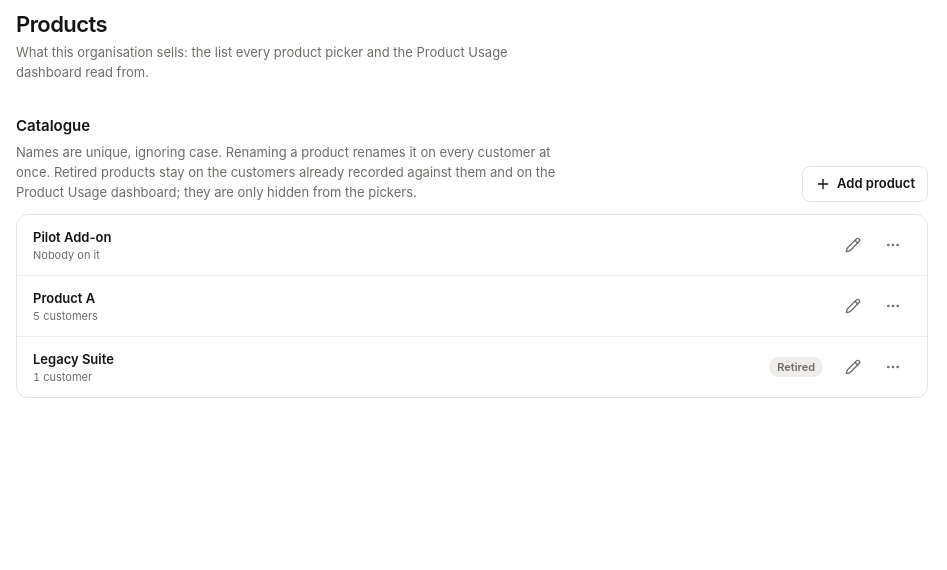
Scenario: ProductsPage › adds a product and shows it in the list
The image size is (947, 570).
Expected: the text "Product A" is shown, [33,290,95,306]
Click the button "Add product": [865, 184] box [802,166,928,202]
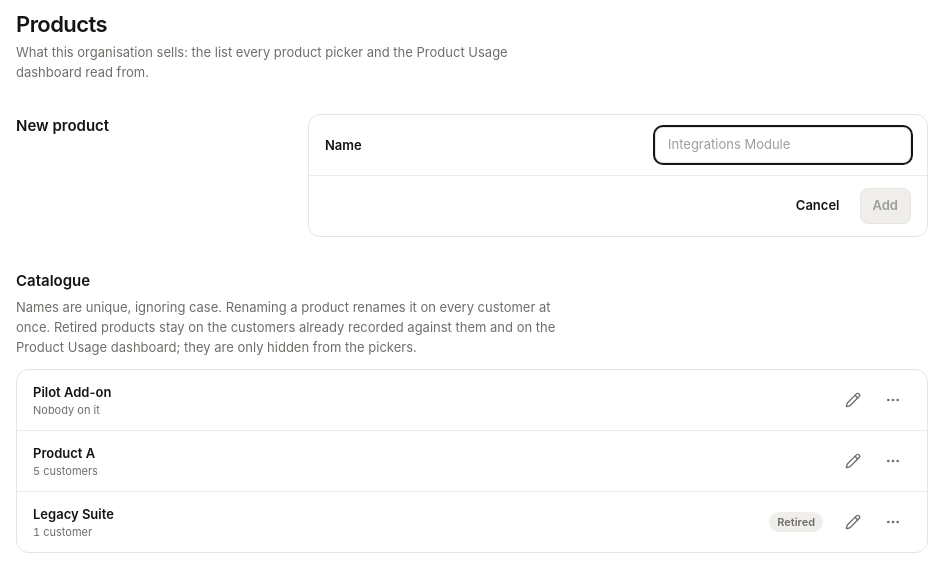
In the field labelled "Name": [783, 145] box [655,127,911,163], type "  Product D "
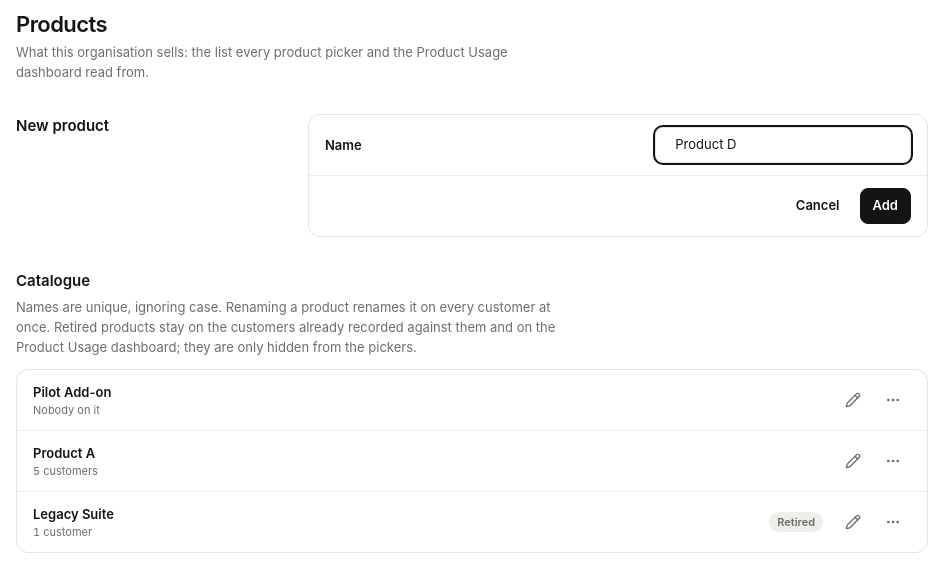
Click the button "Add": [885, 206] box [860,188,911,224]
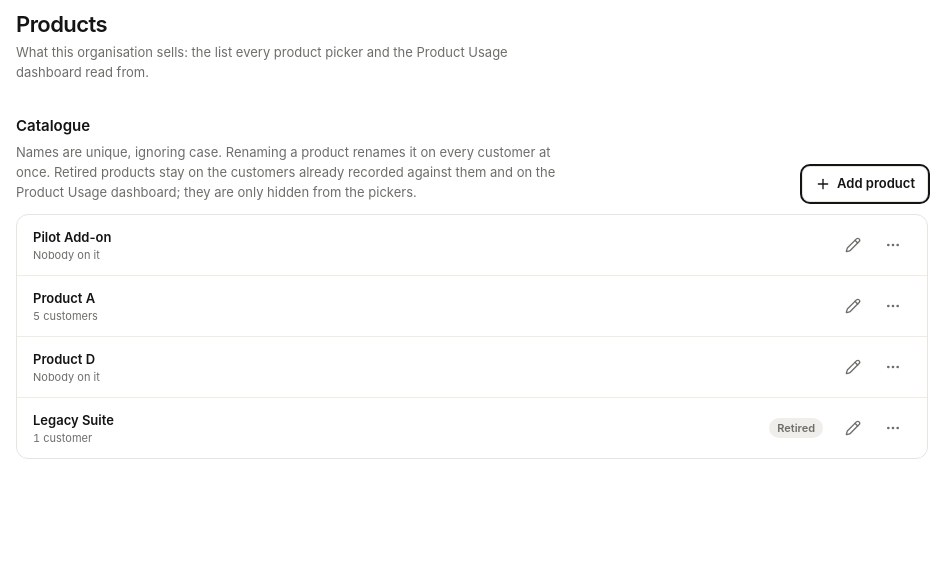
Now the text "Product D" is shown, box [33,351,95,367]
